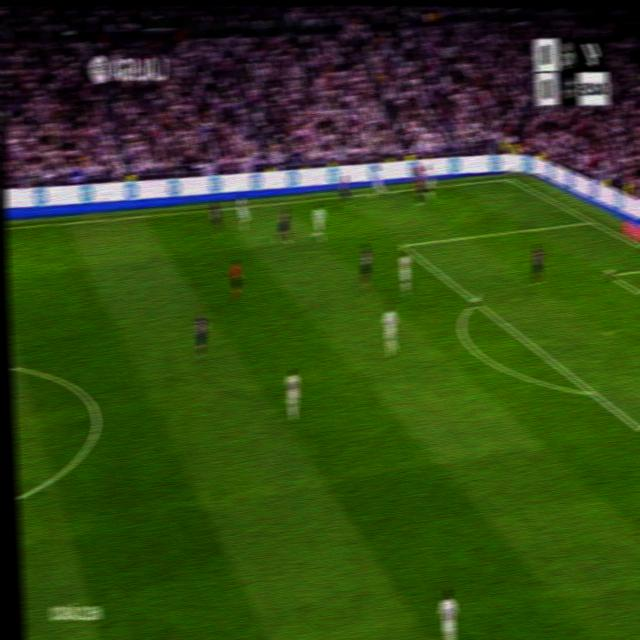bigarea_top_inner: (399, 236, 408, 250)
bigarea_top_outter: (585, 212, 596, 227)
bottom_arc_area_intersection: (583, 378, 598, 402)
corner: (504, 173, 516, 183)
smallarea_top_inner: (603, 265, 616, 281)
top_arc_area_intersection: (469, 292, 481, 310)
